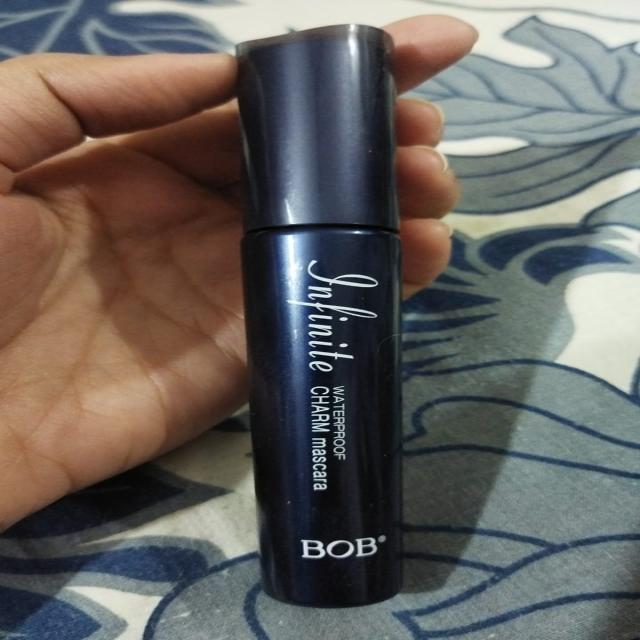mascara: (208, 6, 426, 624)
